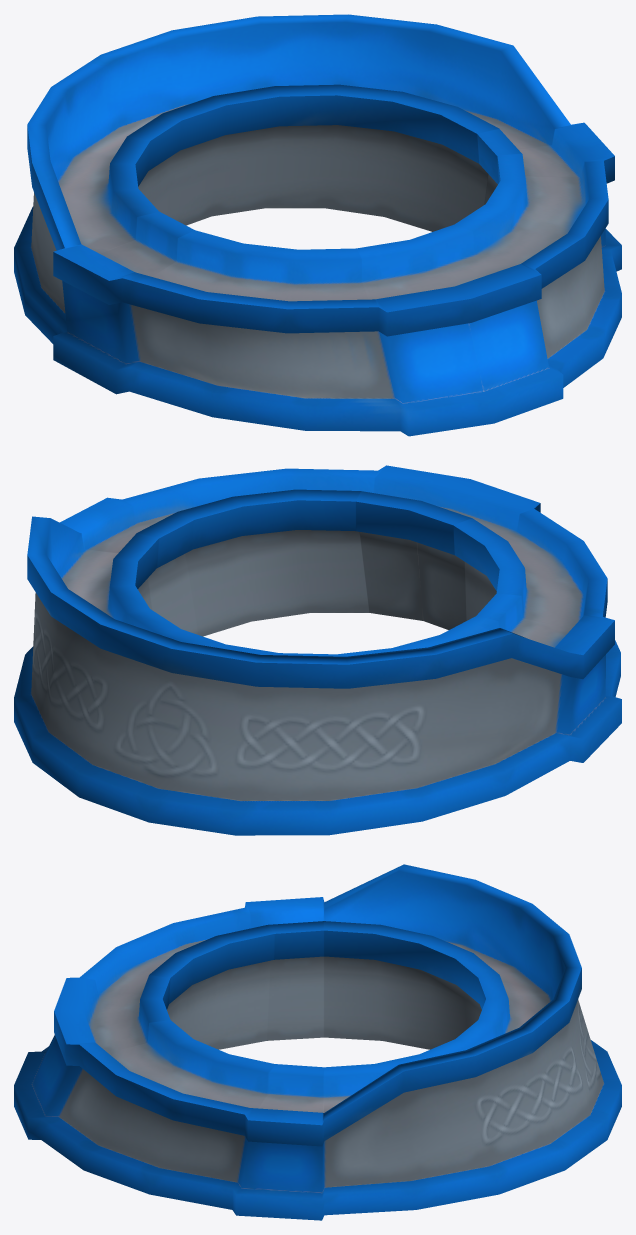
The model's file is PlatformBaseMesh.fbx.
3 views of the same model, one above another, from view 1: azimuth 30°, elevation 25°; view 2: azimuth 150°, elevation 25°; view 3: azimuth 270°, elevation 25° (orthographic). The views are drawn at different scales.
Visible parts, largest first — view 1: BaseMesh; view 2: BaseMesh; view 3: BaseMesh.
Boxes of the visible parts, box(x1,y1,x2,y2) form: BaseMesh: box(14, 14, 621, 436); BaseMesh: box(14, 465, 621, 835); BaseMesh: box(14, 864, 621, 1220).
Bounding box in the file's own units: 0.021 × 0.00594 × 0.0236.
Materials: 1 (1 with a texture image).
